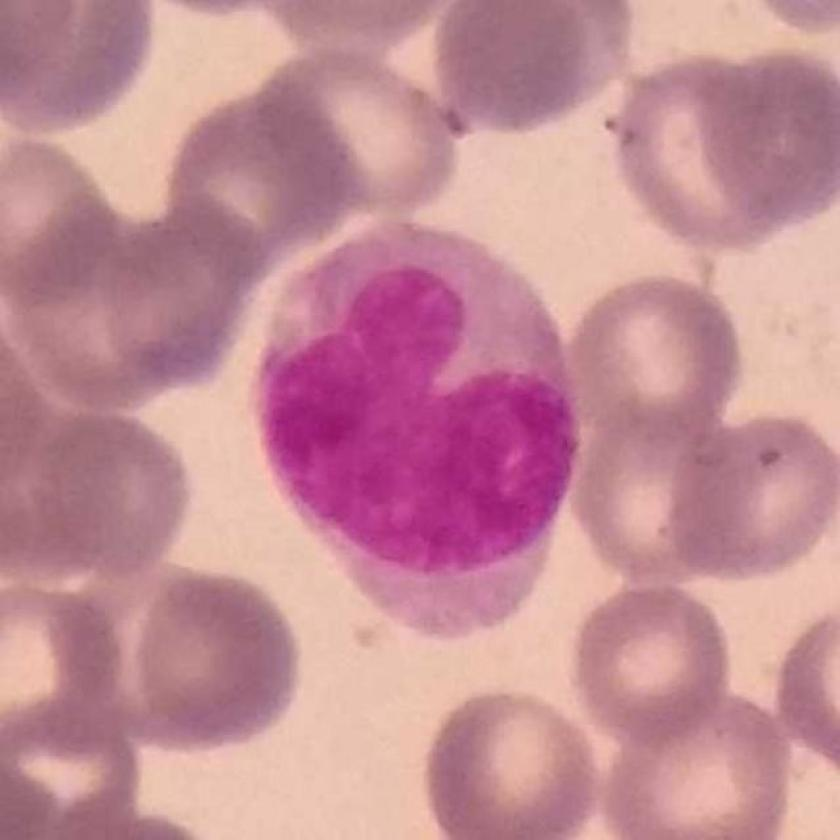monocyte: (260, 215, 592, 643)
